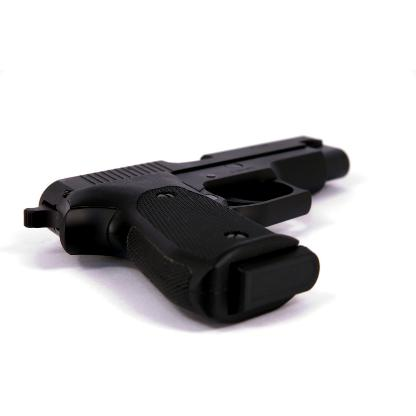gun: (20, 132, 354, 326)
